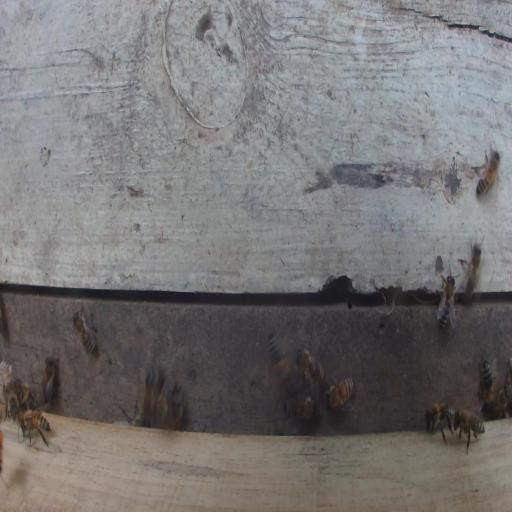bee: (457, 238, 483, 297), (72, 302, 99, 357), (453, 407, 485, 453), (267, 330, 293, 384), (425, 401, 455, 442), (20, 405, 50, 446), (436, 272, 457, 330), (476, 149, 501, 196), (296, 345, 325, 385), (324, 377, 355, 410), (283, 394, 319, 421), (477, 358, 495, 410), (42, 352, 59, 404), (142, 362, 157, 420), (120, 402, 150, 427), (167, 384, 183, 430), (155, 386, 169, 426), (496, 380, 511, 417), (5, 389, 19, 421), (17, 381, 33, 408)
